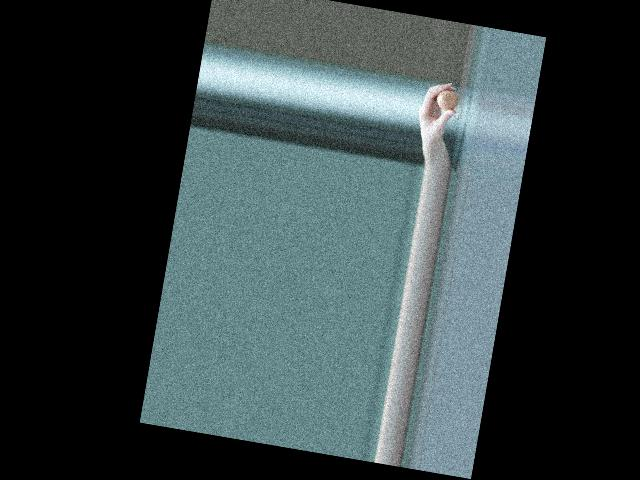egg: (435, 88, 460, 112)
